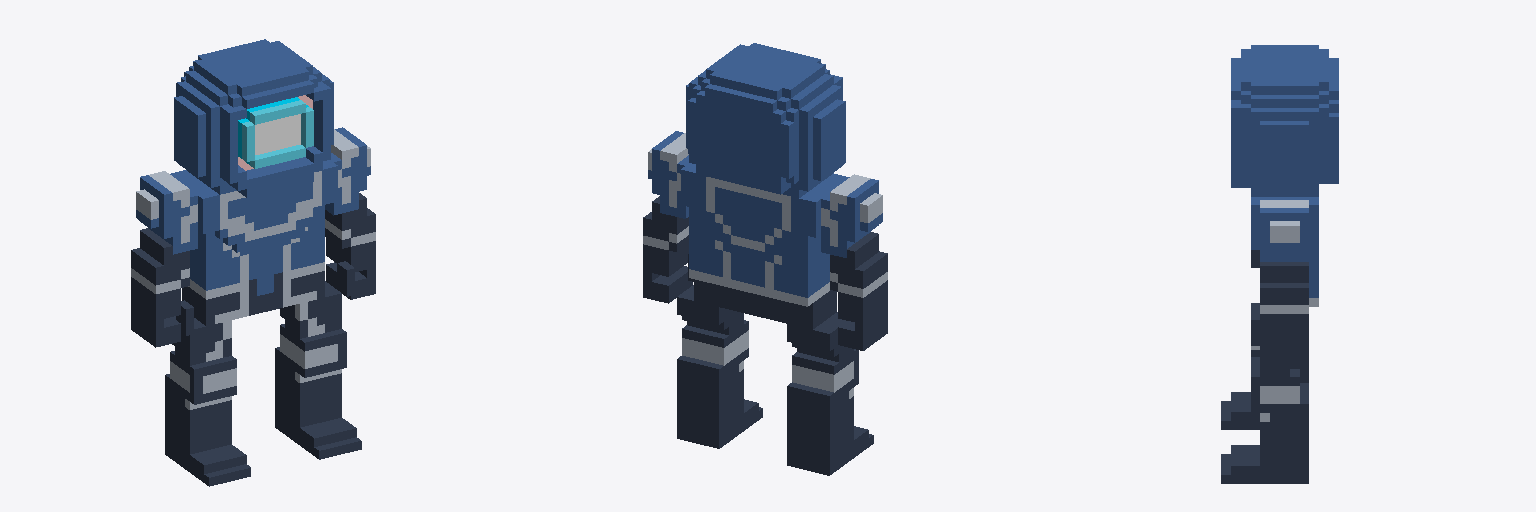
The picture shows the model from 3 angles: view 1: azimuth 30°, elevation 25°; view 2: azimuth 150°, elevation 25°; view 3: azimuth 270°, elevation 25°; orthographic projection.
Visible parts, largest first — view 1: object 1; view 2: object 1; view 3: object 1.
Boxes of the visible parts, <box> form: object 1: <box>131,39,375,486</box>; object 1: <box>643,43,887,475</box>; object 1: <box>1221,45,1338,483</box>.
Bounding box in the file's own units: 2.6 × 4.3 × 1.2.
Materials: 1 (1 with a texture image).